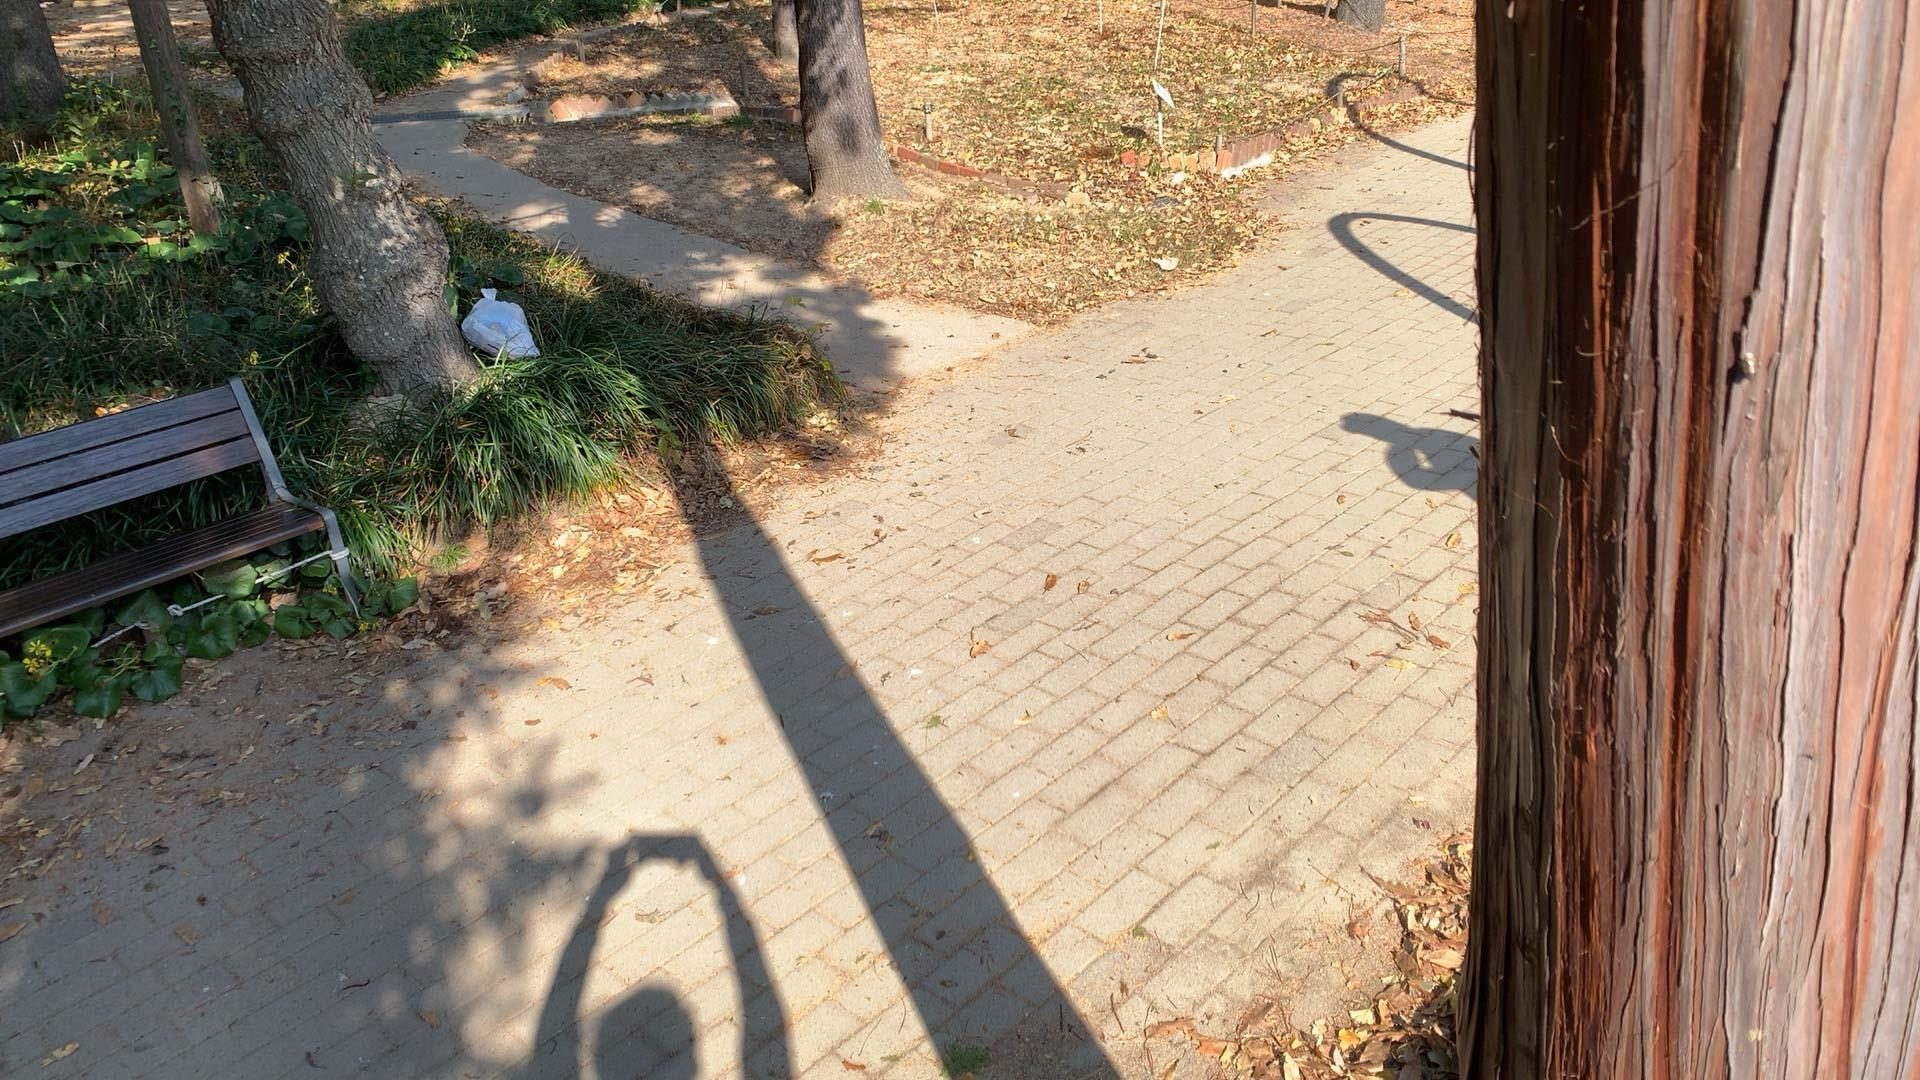white_bag: (460, 283, 544, 367)
